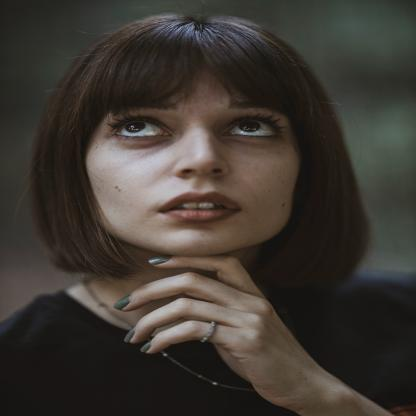Eye: (107, 117, 177, 148), (219, 116, 285, 146)
Mouth: (155, 189, 246, 224)
Nose: (175, 129, 231, 178)
